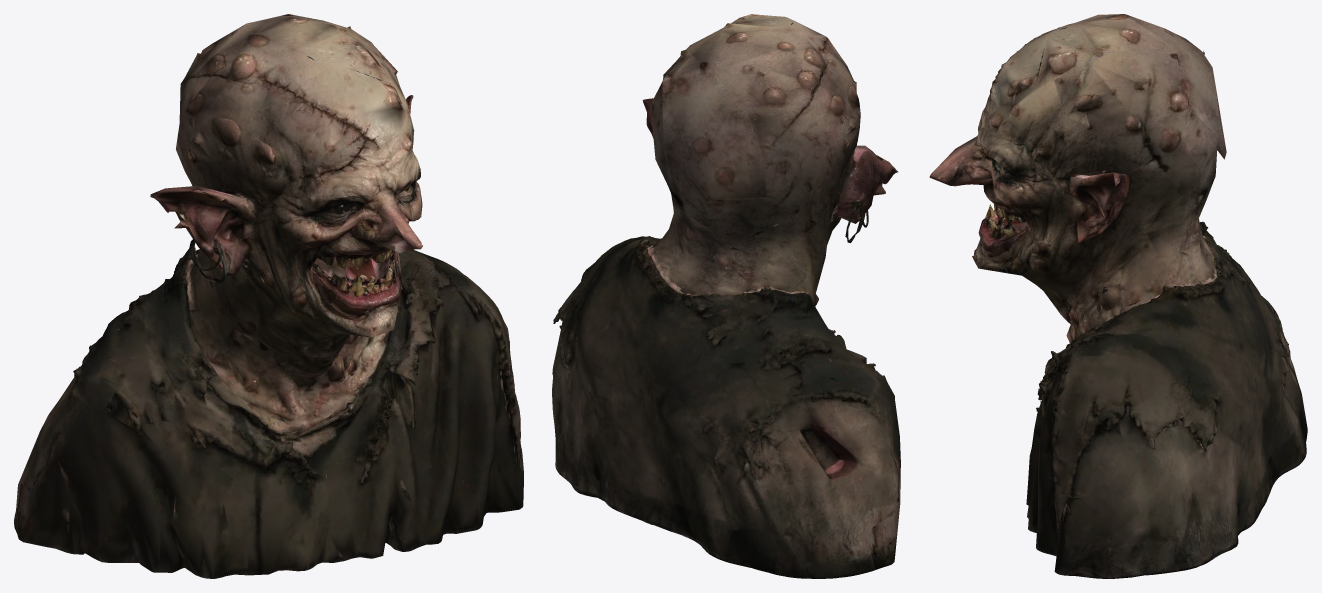
The model's file is abomination.glb.
The picture shows the model from 3 angles, left to right: view 1: azimuth 30°, elevation 25°; view 2: azimuth 150°, elevation 25°; view 3: azimuth 270°, elevation 25°; orthographic projection. The views are drawn at different scales.
Bounding box in the file's own units: 1.67 × 1.88 × 1.4.
1 material, 1 textured.
